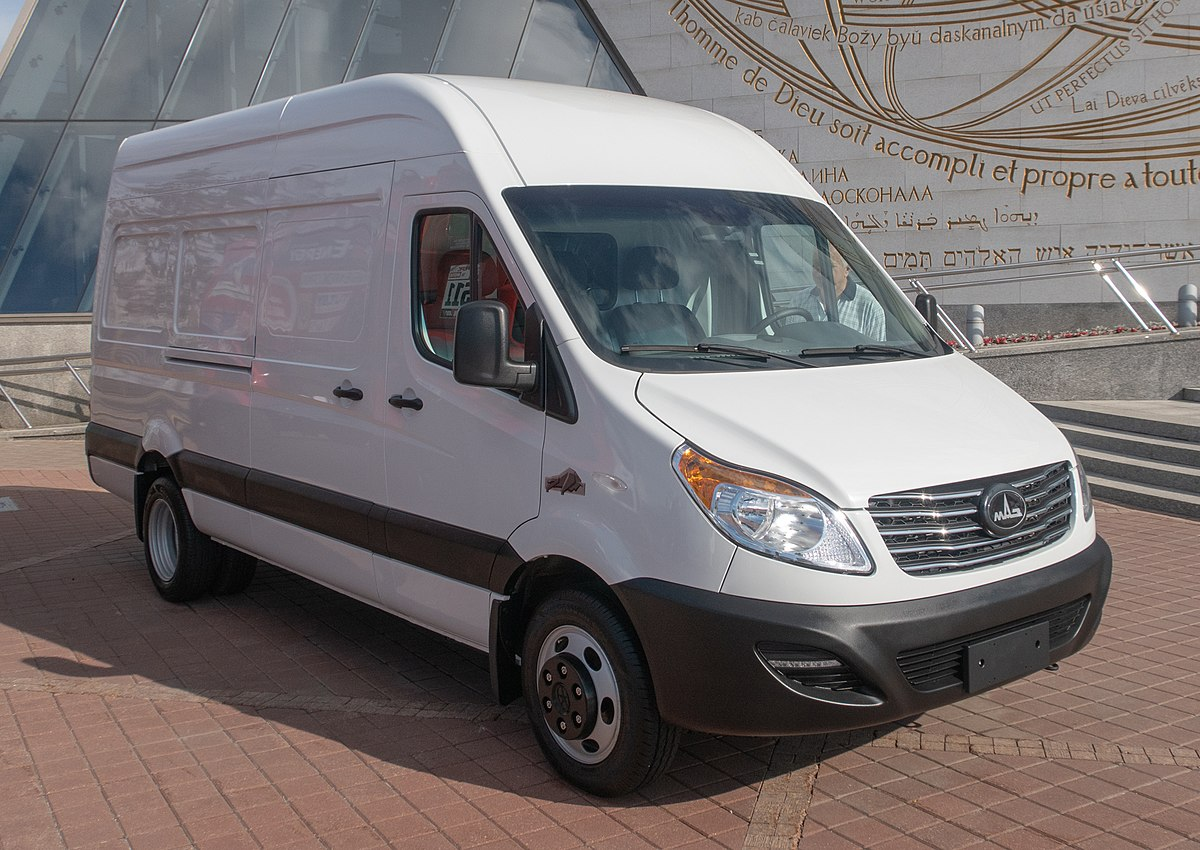van: (78, 72, 1123, 804)
